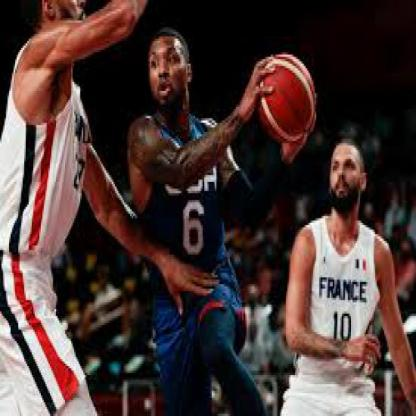basketball: (256, 54, 314, 144)
